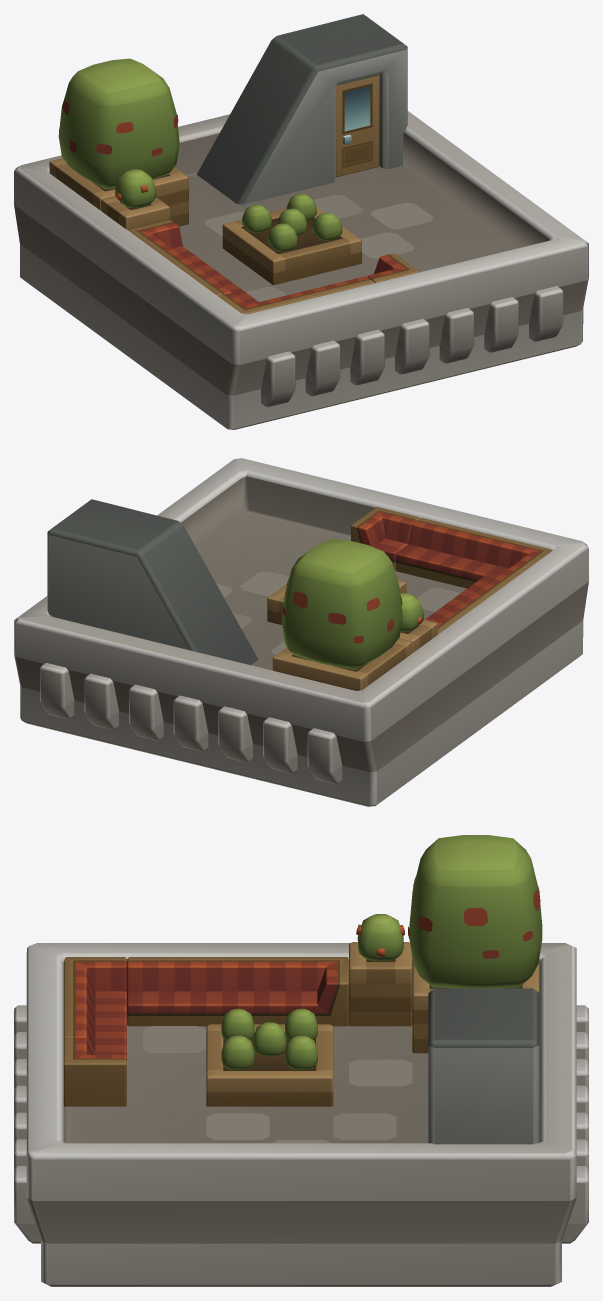
File: appartment_type1_roof_type2_x4_deco.fbx
3 renders of one model, top to bottom at view 1: azimuth 30°, elevation 25°; view 2: azimuth 150°, elevation 25°; view 3: azimuth 270°, elevation 25°, orthographic. The views are drawn at different scales.
Parts seen in each view (by area): view 1: appartment_type1_roof_type2_x4_deco, door_wood_rooftop_doorway; view 2: appartment_type1_roof_type2_x4_deco; view 3: appartment_type1_roof_type2_x4_deco.
Boxes of the visible parts, <box> form: appartment_type1_roof_type2_x4_deco: <box>14,14,588,429</box>; door_wood_rooftop_doorway: <box>336,75,379,177</box>; appartment_type1_roof_type2_x4_deco: <box>14,458,588,806</box>; appartment_type1_roof_type2_x4_deco: <box>14,835,588,1286</box>.
Bounding box in the file's own units: 800 × 463 × 907.
